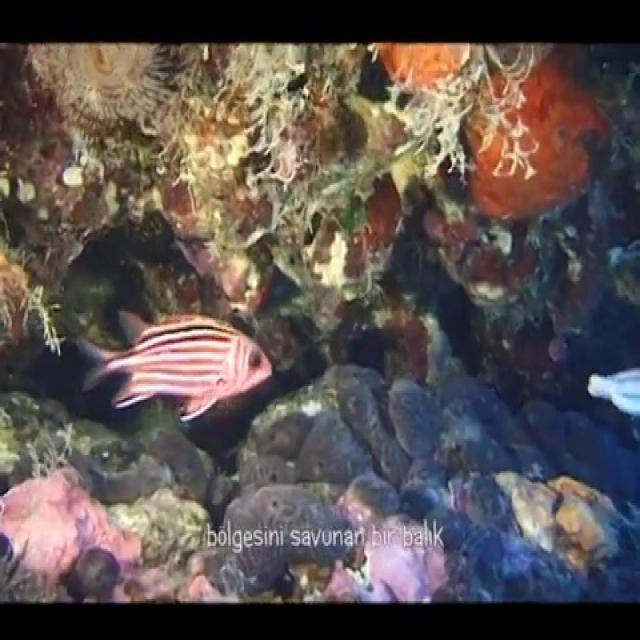Asker Baligi: (74, 307, 274, 425)
